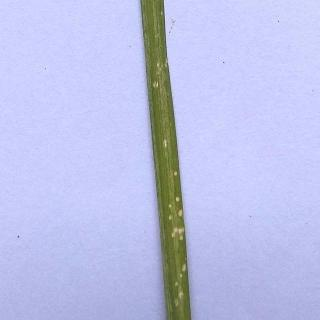Blast: (142, 49, 206, 320)
